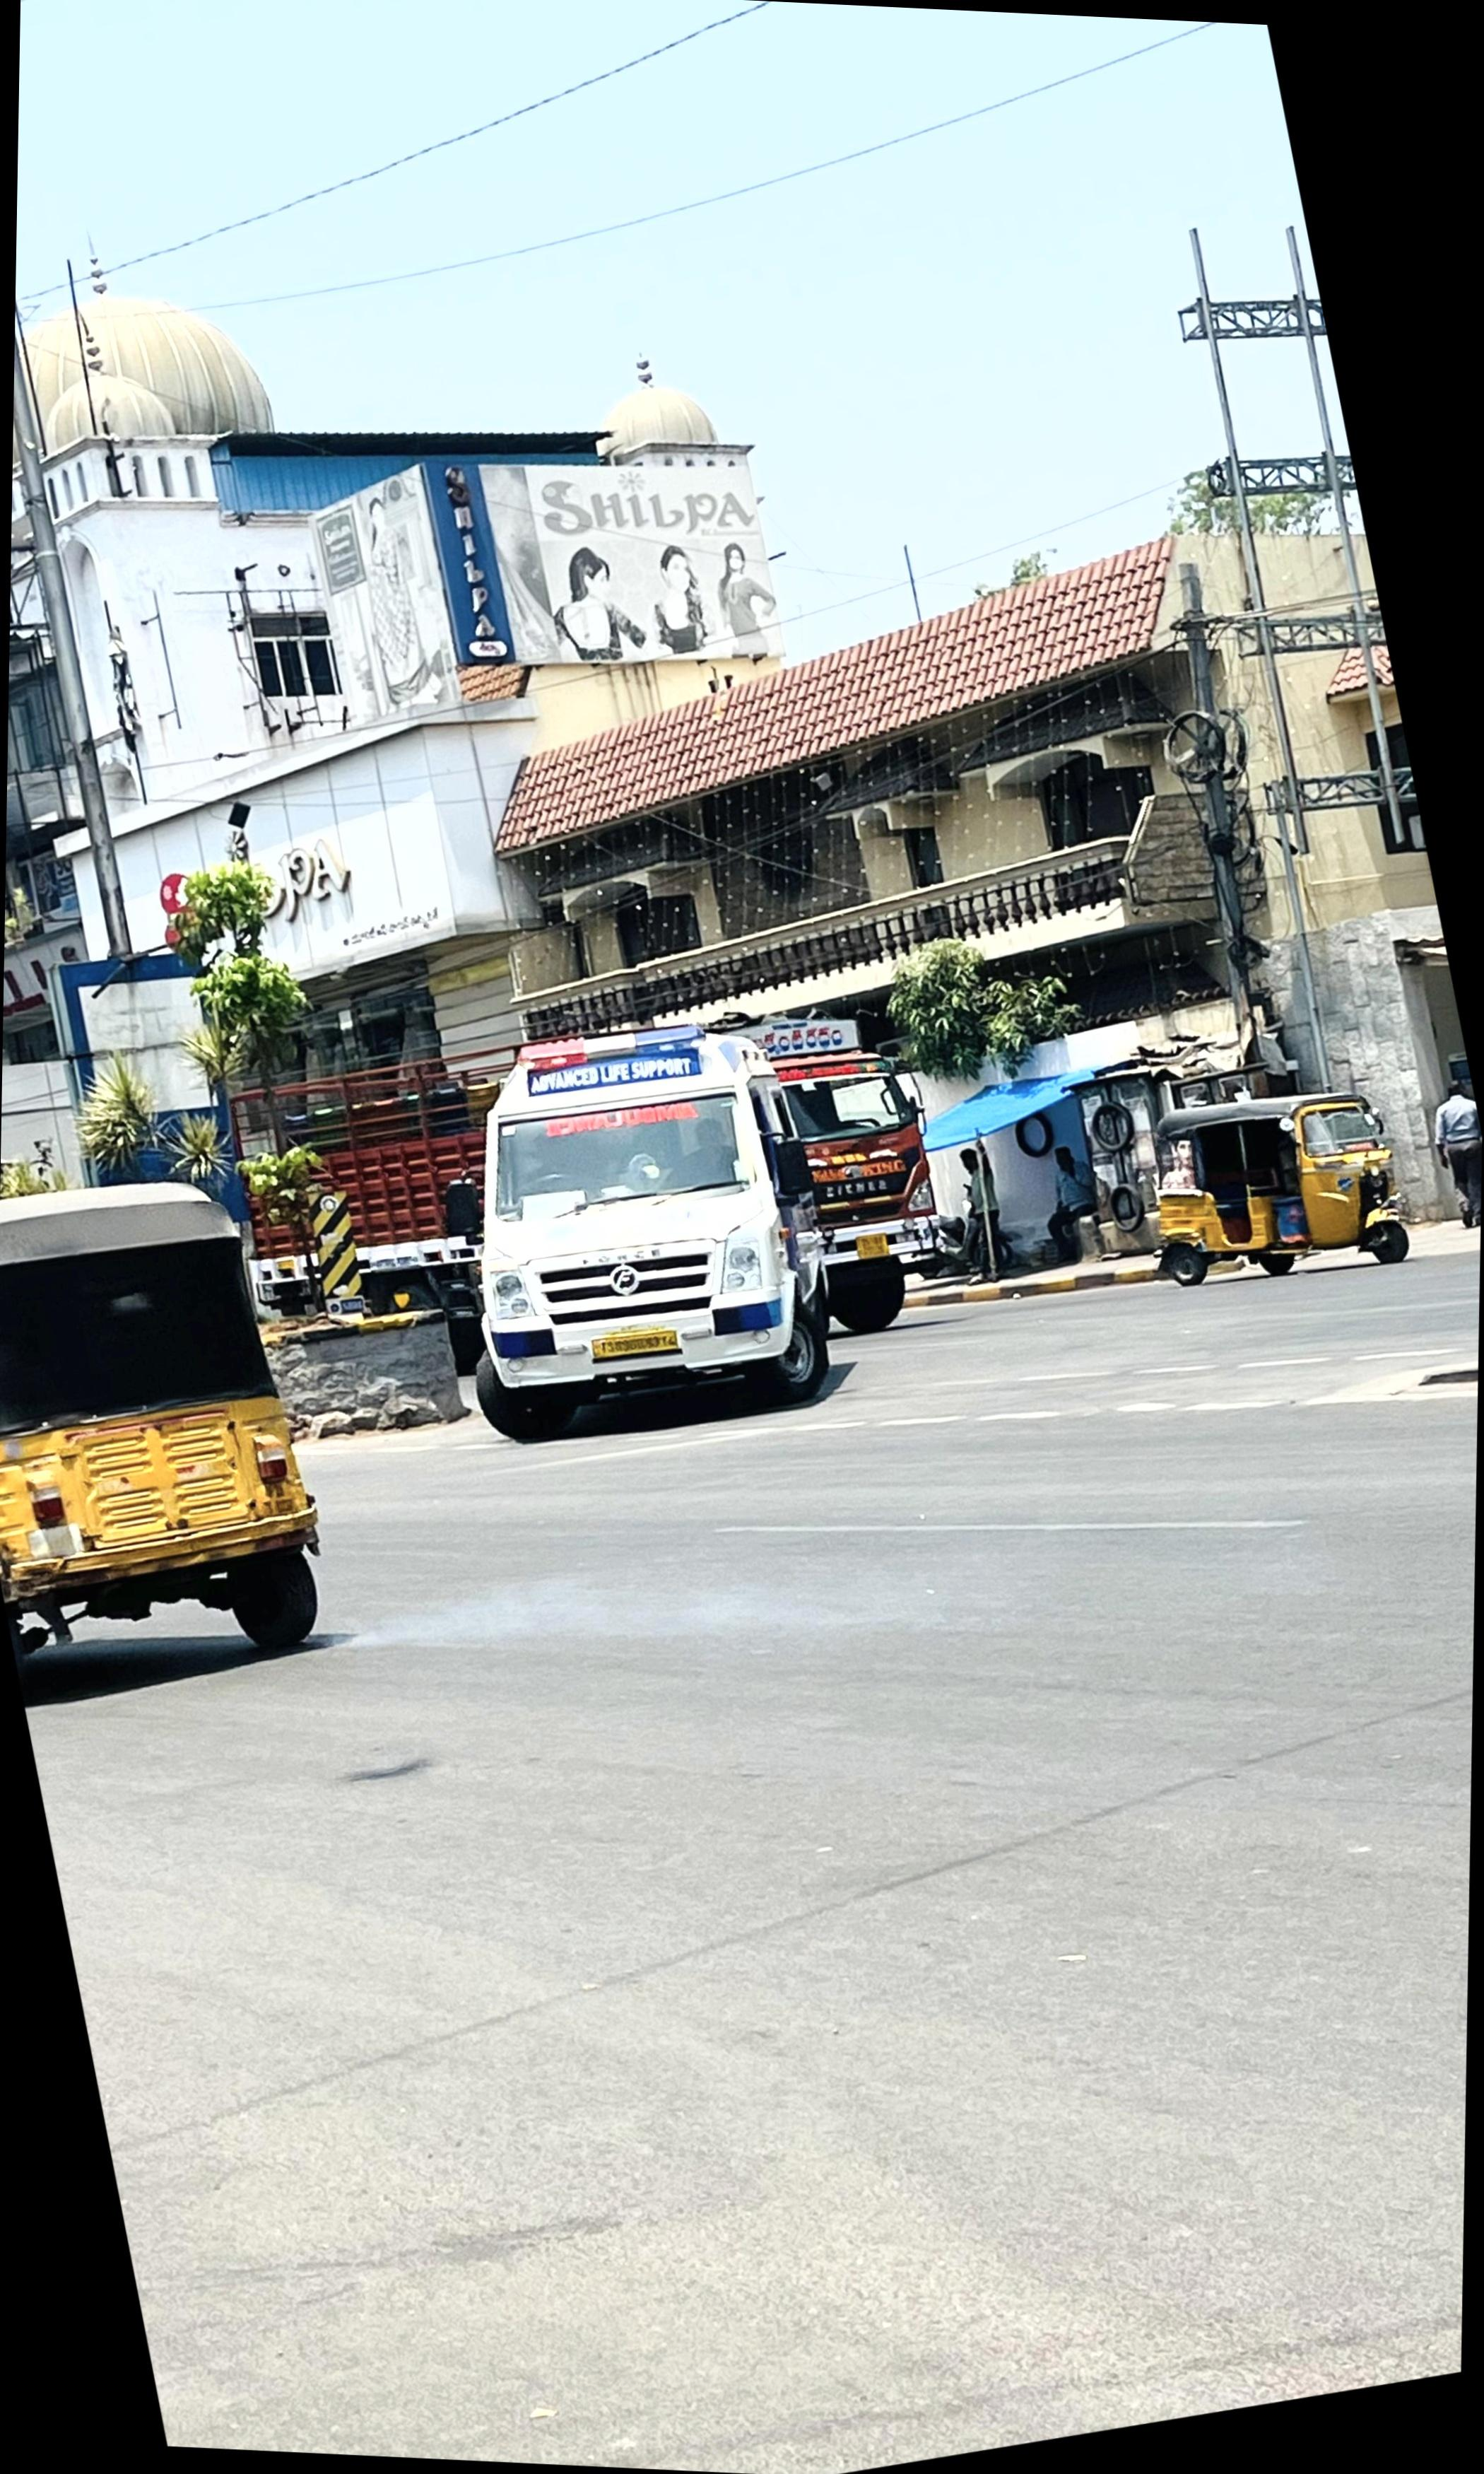ambulance: (466, 1021, 834, 1447)
